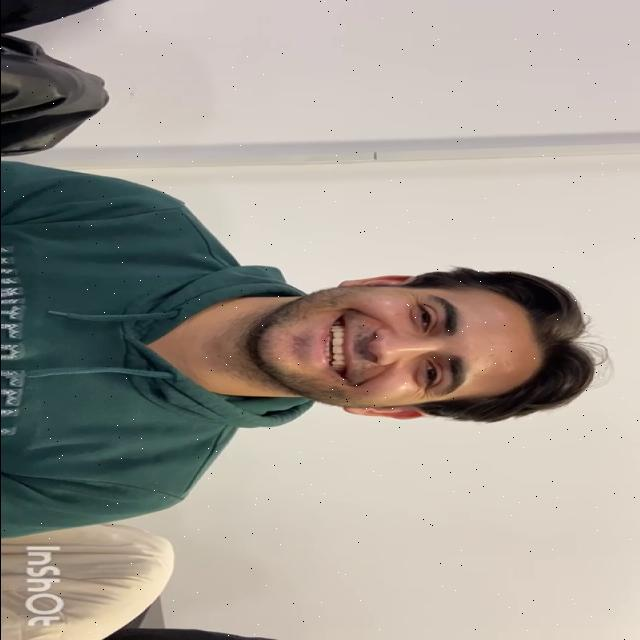happy: (247, 285, 545, 406)
